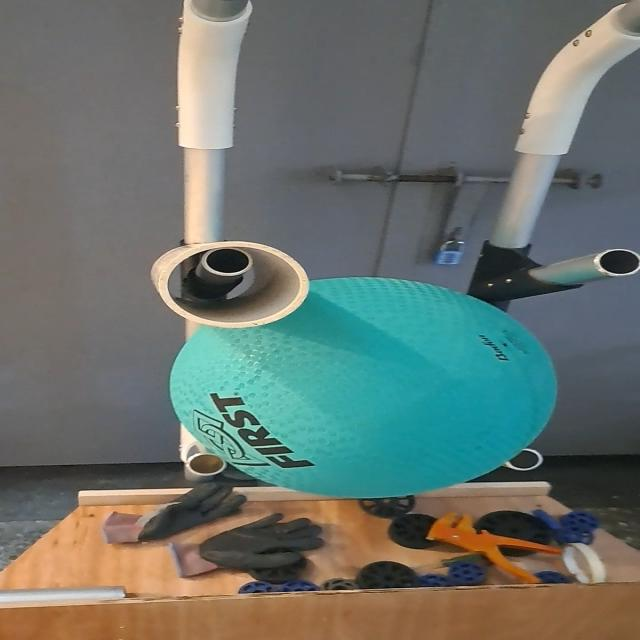ALGAE: (165, 274, 570, 498)
CORAL: (152, 238, 317, 329)
